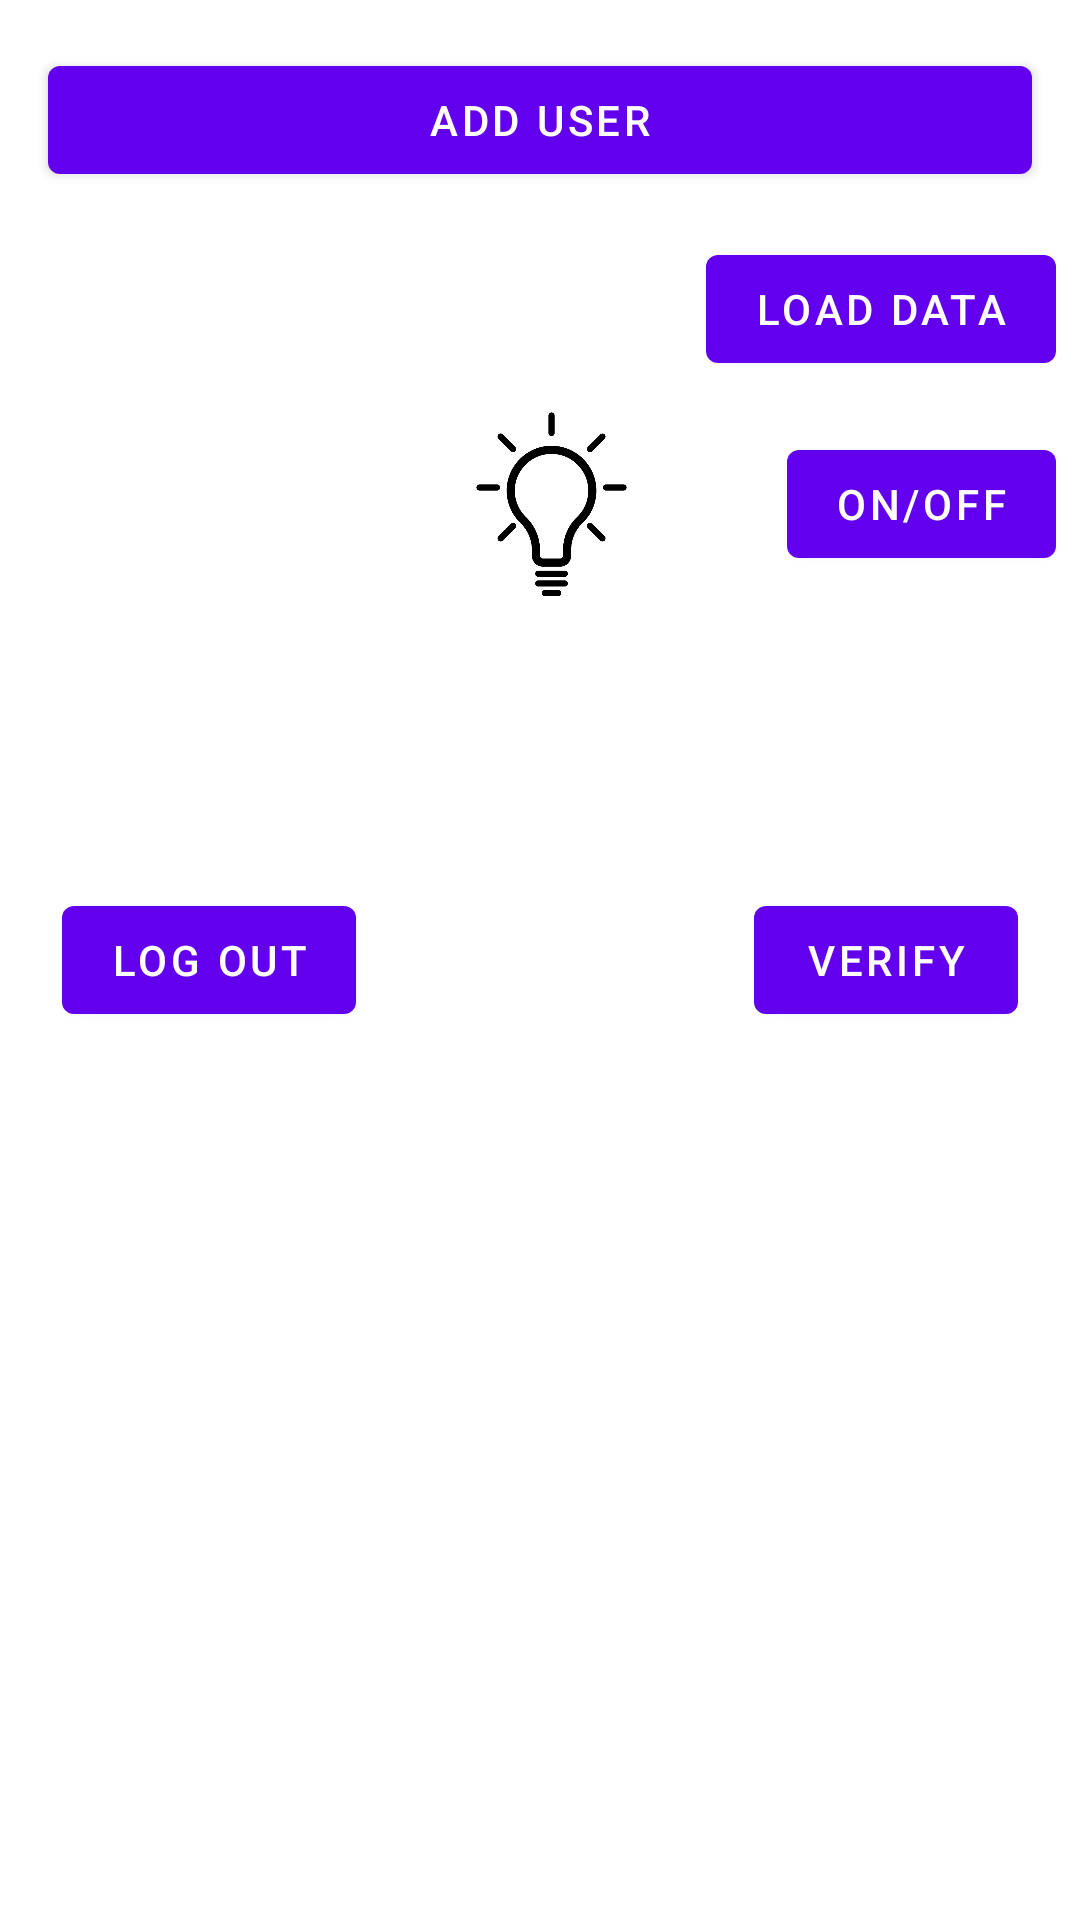

Screen size 1080 × 1920. Icon name, then its center in pixels as (x,y):
bulb: (551,504)
